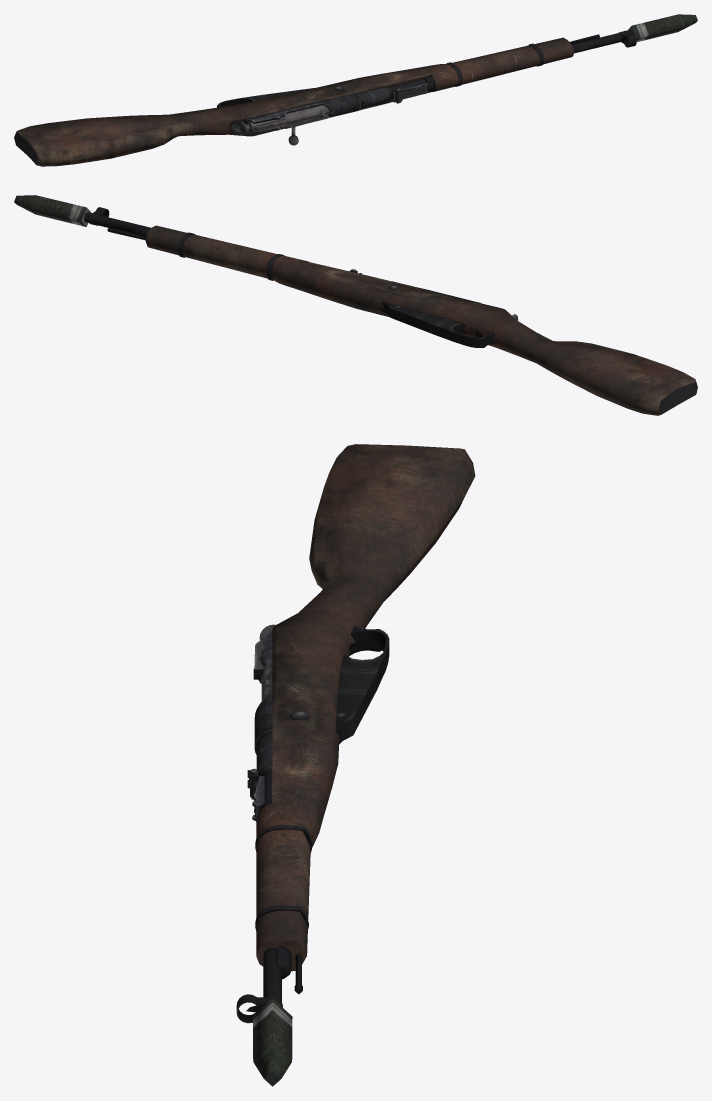
Rendered from weapon_rus_mosin_rifle_grenade_LOD01.obj.
The picture shows the model from 3 angles, top to bottom: view 1: azimuth 30°, elevation 25°; view 2: azimuth 150°, elevation 25°; view 3: azimuth 270°, elevation 25°; orthographic projection. The views are drawn at different scales.
Parts seen in each view (by area): view 1: TomGroup_2, TomGroup_0, TomGroup_1; view 2: TomGroup_2, TomGroup_0, TomGroup_1; view 3: TomGroup_2, TomGroup_0, TomGroup_1.
Part boxes in pixels (<box>): TomGroup_2: <box>16,37,573,166</box>; TomGroup_0: <box>14,30,636,165</box>; TomGroup_1: <box>627,14,697,42</box>; TomGroup_2: <box>145,225,695,415</box>; TomGroup_0: <box>84,207,697,414</box>; TomGroup_1: <box>14,195,91,226</box>; TomGroup_2: <box>256,444,475,971</box>; TomGroup_0: <box>236,444,459,1023</box>; TomGroup_1: <box>252,998,292,1086</box>.
Bounding box in the file's own units: 141 × 8.51 × 22.78.
Materials: 3 (3 with a texture image).
